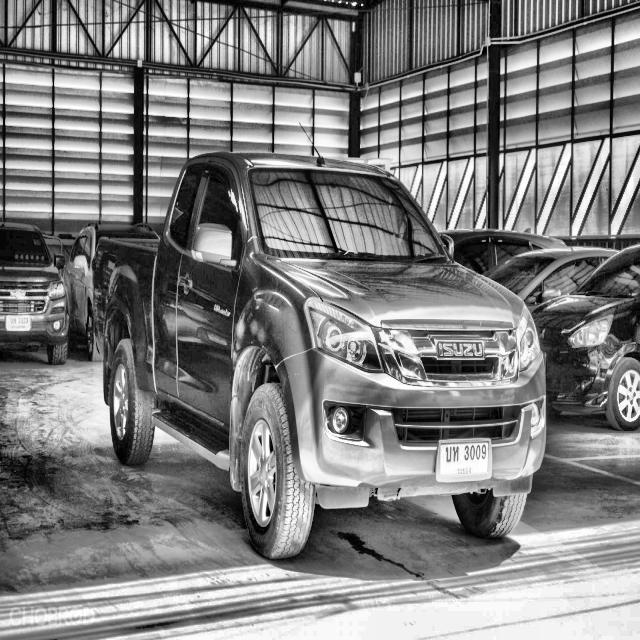license-plate: (438, 439, 493, 482)
